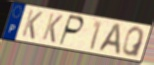1: (90, 20, 103, 51)
A: (95, 22, 121, 57)
K: (20, 9, 44, 41), (41, 12, 64, 44)
P: (57, 14, 85, 48)
Q: (121, 26, 146, 59)
